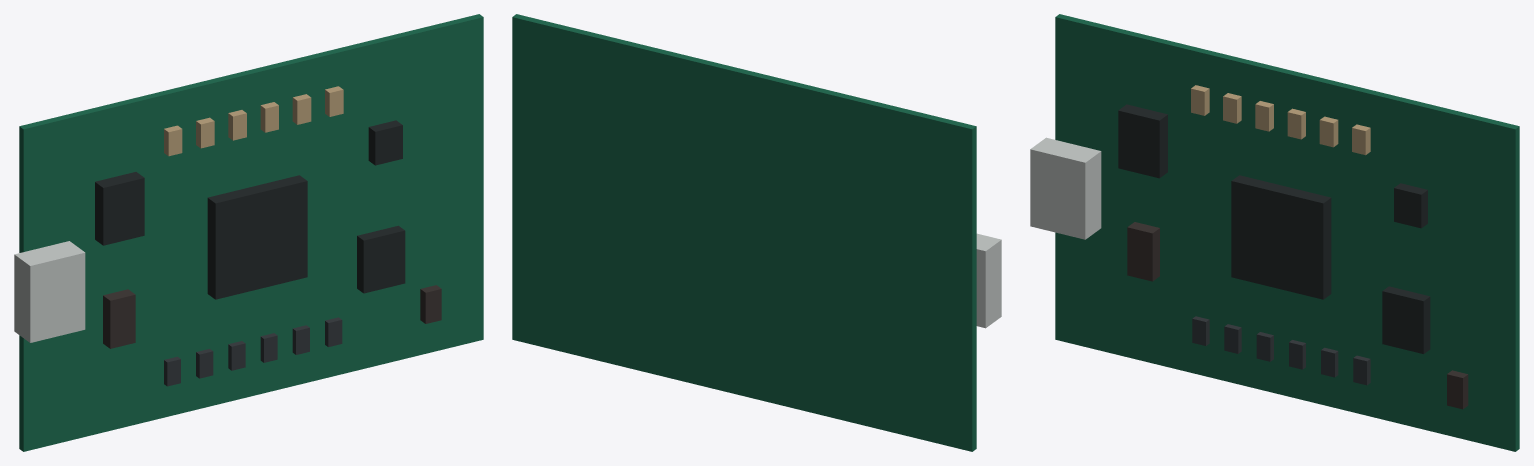
The model's file is CTRL-01-board.glb.
3 views of the same model, side by side, from view 1: azimuth 30°, elevation 25°; view 2: azimuth 150°, elevation 25°; view 3: azimuth 330°, elevation 25° (orthographic).
Parts seen in each view (by area): view 1: CTRL-01 PCB, LQFP-100, USB-C, SOT-223, SOIC-8, SMA, SOT-23, SOD-123, C5, C1, C2, C4 (+8 smaller); view 2: CTRL-01 PCB, USB-C; view 3: CTRL-01 PCB, LQFP-100, USB-C, SOT-223, SOIC-8, SMA, SOT-23, SOD-123, C5, C6, C1, C2 (+7 smaller).
Part boxes in pixels (x1,y1,x2,y2): CTRL-01 PCB: (19,14,483,451); LQFP-100: (207,175,307,299); USB-C: (14,241,85,342); SOT-223: (95,172,144,245); SOIC-8: (357,225,405,293); SMA: (103,289,135,348); SOT-23: (368,120,402,165); SOD-123: (420,285,441,323); C5: (292,94,311,124); C1: (164,125,182,156); C2: (196,117,214,148); C4: (260,102,278,132); CTRL-01 PCB: (512,14,976,451); USB-C: (976,233,1001,328); CTRL-01 PCB: (1055,14,1519,451); LQFP-100: (1231,175,1331,299); USB-C: (1030,137,1101,239); SOT-223: (1118,104,1167,178); SOIC-8: (1382,286,1430,353); SMA: (1127,222,1159,281); SOT-23: (1394,183,1427,228); SOD-123: (1447,370,1468,409); C5: (1319,116,1338,147); C6: (1352,124,1370,155); C1: (1191,85,1209,115); C2: (1223,93,1241,123).
Bounding box in the file's own units: 0.102 × 0.067 × 0.0076.
